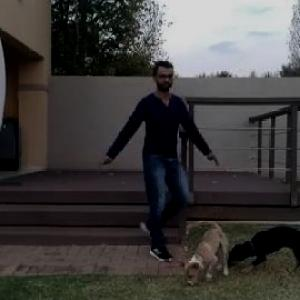land: (93, 73, 208, 261)
